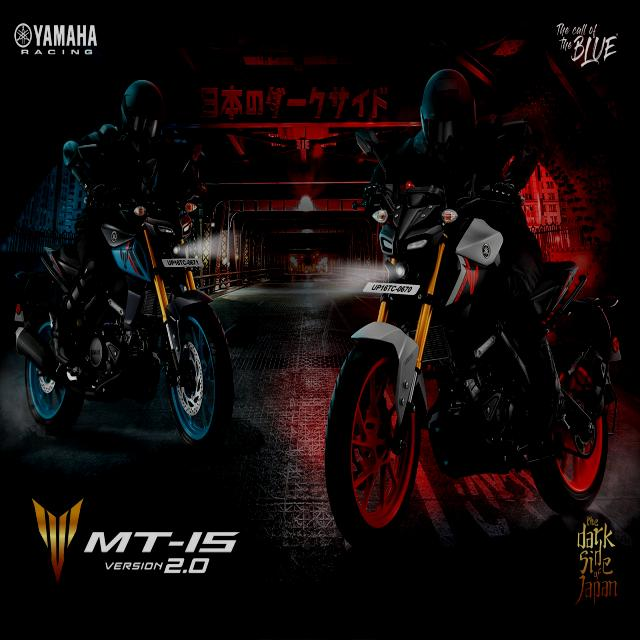MOTORCYCLE: (324, 173, 620, 550), (21, 179, 234, 459)
